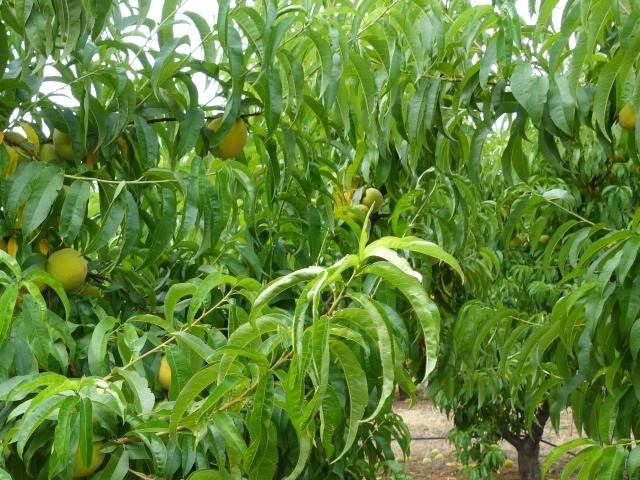peach: (63, 433, 111, 479), (44, 245, 90, 292), (208, 115, 250, 161), (44, 116, 84, 163), (34, 138, 68, 174), (150, 353, 180, 393), (613, 97, 638, 138), (357, 183, 387, 213)
